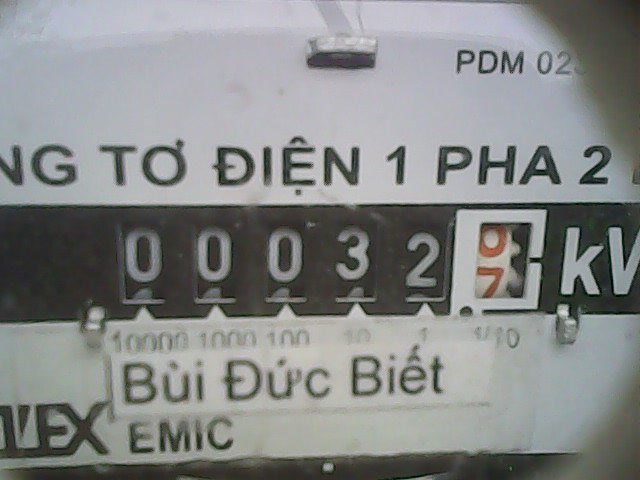phy_plate: (104, 201, 552, 317)
